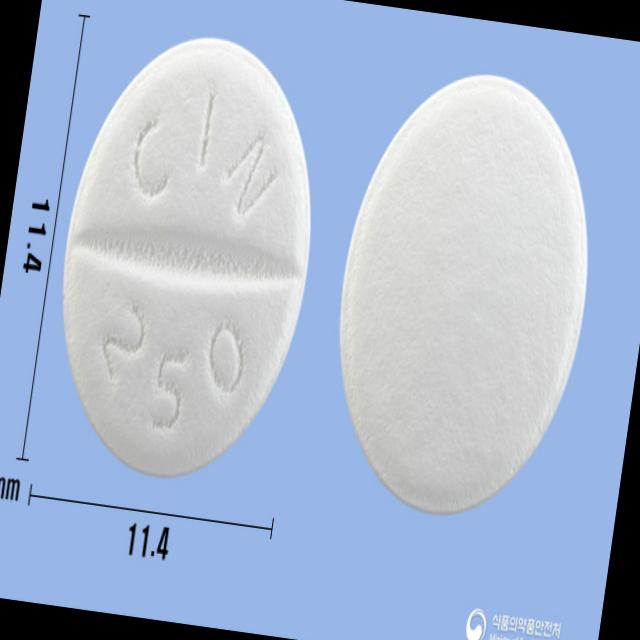CTcin: (33, 16, 341, 502)
